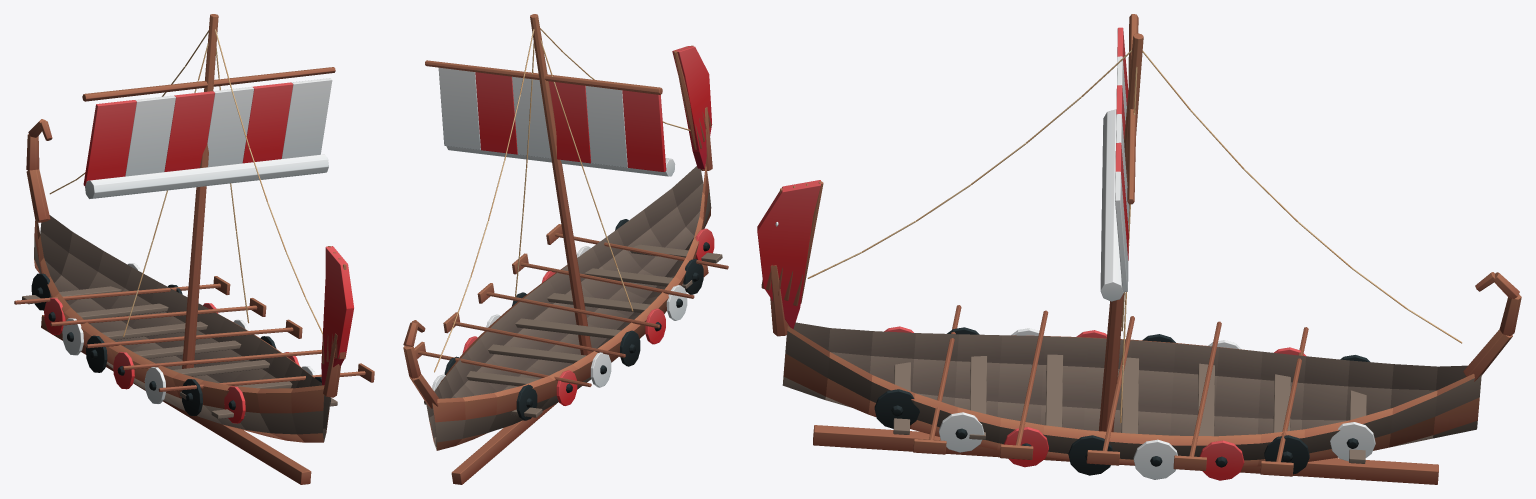
The model's file is reaver_longship.glb.
3 renders of one model, left to right at view 1: azimuth 30°, elevation 25°; view 2: azimuth 150°, elevation 25°; view 3: azimuth 270°, elevation 25°, orthographic. The views are drawn at different scales.
Visible parts, largest first — view 1: reaver_longship; view 2: reaver_longship; view 3: reaver_longship.
Boxes of the visible parts, x1,y1,x2,y2 form: reaver_longship: (14,14,374,484); reaver_longship: (403,14,728,484); reaver_longship: (757,14,1521,484).
Size of the model in its own units: 6.44 by 9.59 by 14.06.
Materials: 1 (1 with a texture image).
